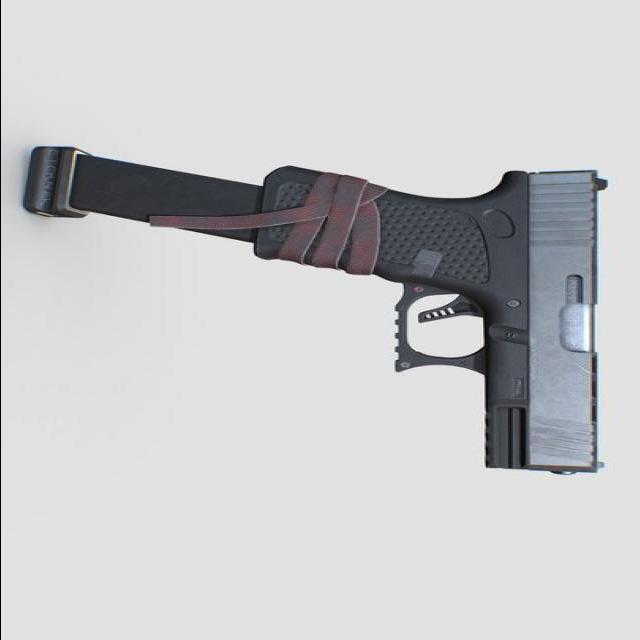pistol: (256, 140, 624, 488)
